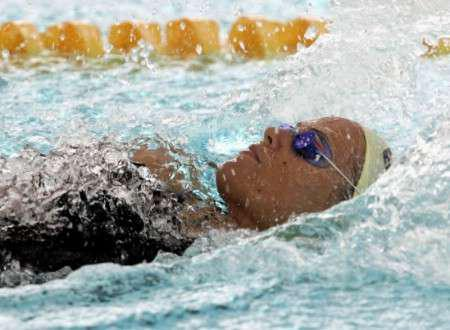swimmer: (7, 103, 403, 278)
